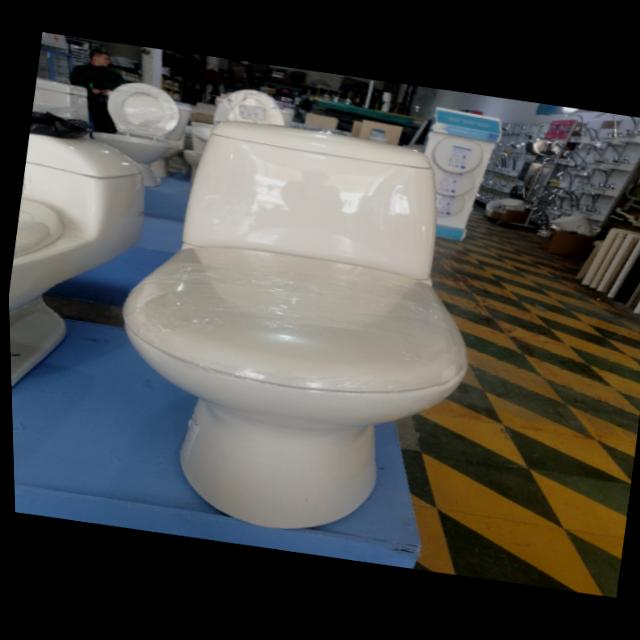toilet: (85, 101, 504, 558), (2, 74, 167, 416), (176, 81, 294, 193), (81, 76, 185, 191), (150, 99, 195, 180)
